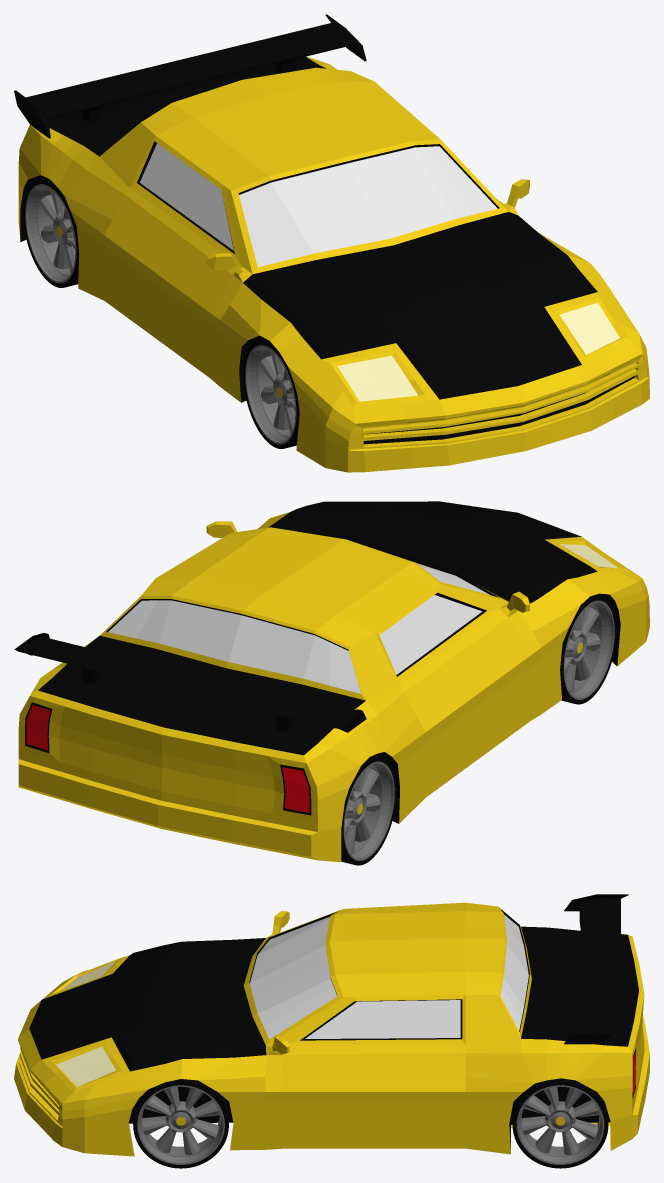
The model's file is low_poly_sports_car.glb.
3 renders of one model, top to bottom at view 1: azimuth 30°, elevation 25°; view 2: azimuth 150°, elevation 25°; view 3: azimuth 270°, elevation 25°, orthographic. The views are drawn at different scales.
Visible parts, largest first — view 1: CHASSIS, BRW, FRW; view 2: CHASSIS, FRW, BRW; view 3: CHASSIS, BLW, FLW.
Part boxes in pixels (box(x1,y1,x2,y2)): CHASSIS: box(14, 14, 649, 472); BRW: box(23, 177, 79, 287); FRW: box(243, 339, 299, 448); CHASSIS: box(14, 501, 649, 862); FRW: box(560, 594, 616, 704); BRW: box(341, 755, 396, 865); CHASSIS: box(14, 894, 649, 1156); BLW: box(512, 1078, 608, 1168); FLW: box(133, 1079, 228, 1168).
Bounding box in the file's own units: 2.02 × 1.13 × 3.98.
